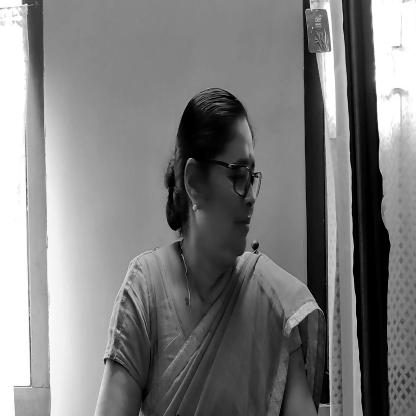Distracted: (175, 94, 264, 276)
